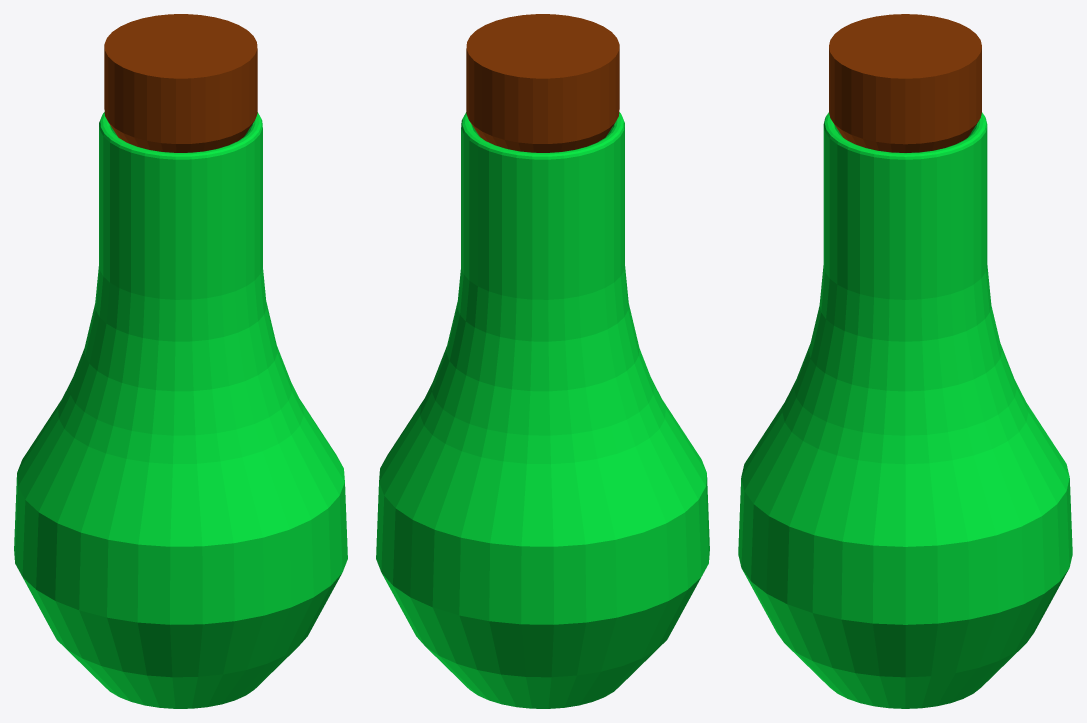
File: potion_001.glb
The picture shows the model from 3 angles, left to right: view 1: azimuth 30°, elevation 25°; view 2: azimuth 150°, elevation 25°; view 3: azimuth 270°, elevation 25°; orthographic projection.
Visible parts, largest first — view 1: potion_001; view 2: potion_001; view 3: potion_001.
Part boxes in pixels (bbox=[...]): potion_001: bbox=[14, 14, 347, 708]; potion_001: bbox=[376, 14, 709, 708]; potion_001: bbox=[738, 14, 1072, 708].
Size of the model in its own units: 0.1284 by 0.2659 by 0.1284.
